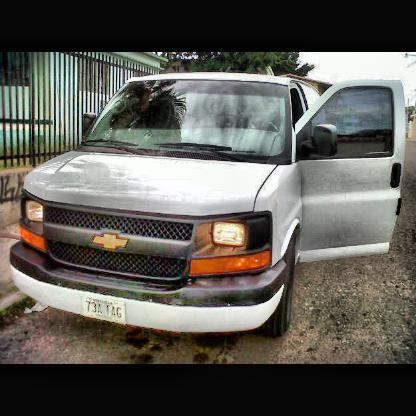Chevrolet Express Van 2007: (9, 72, 409, 343)
